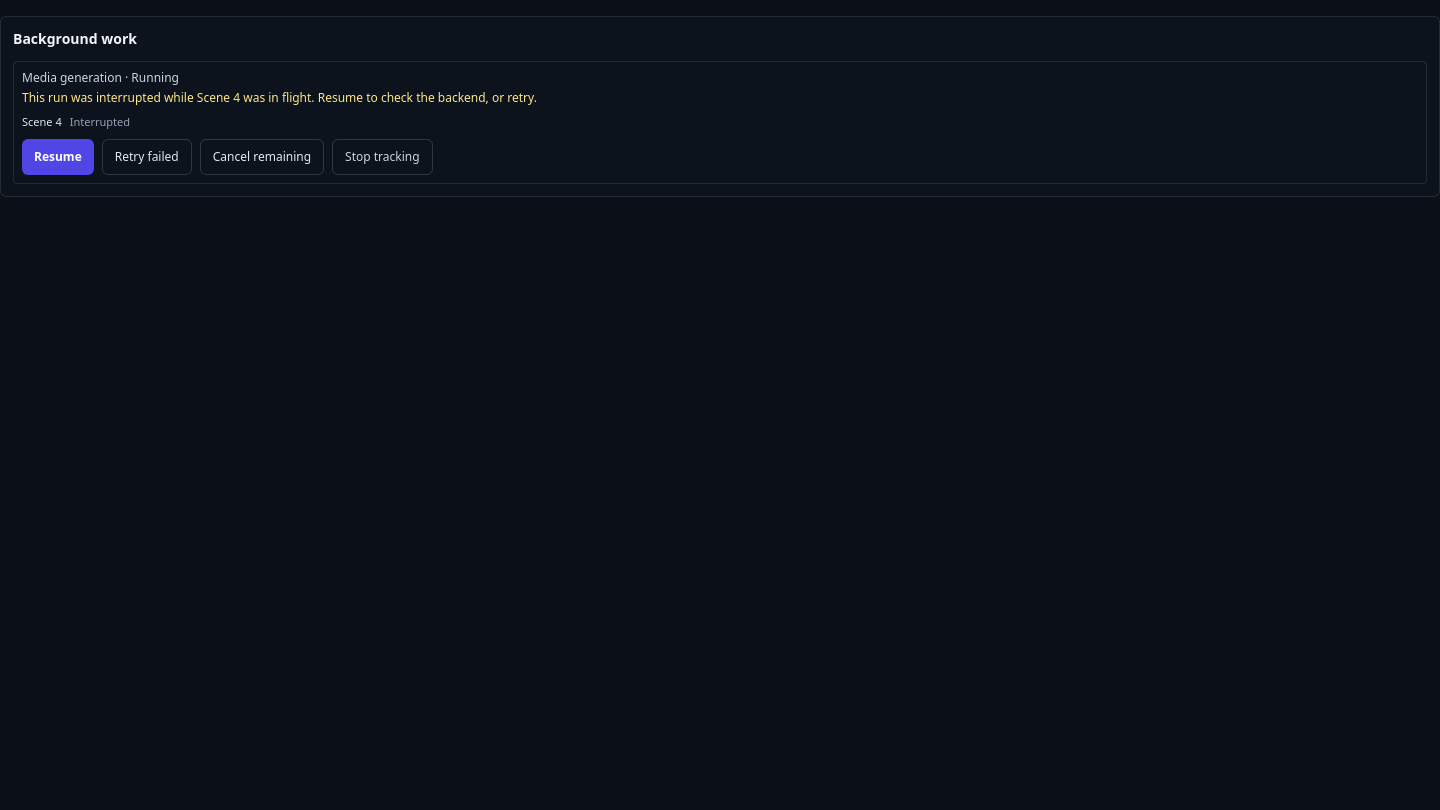
Test case: the recovery panel › warns that stopping tracking does not stop the render
Click the button "Stop tracking". click: (382, 156)
box: [332,138,432,174]
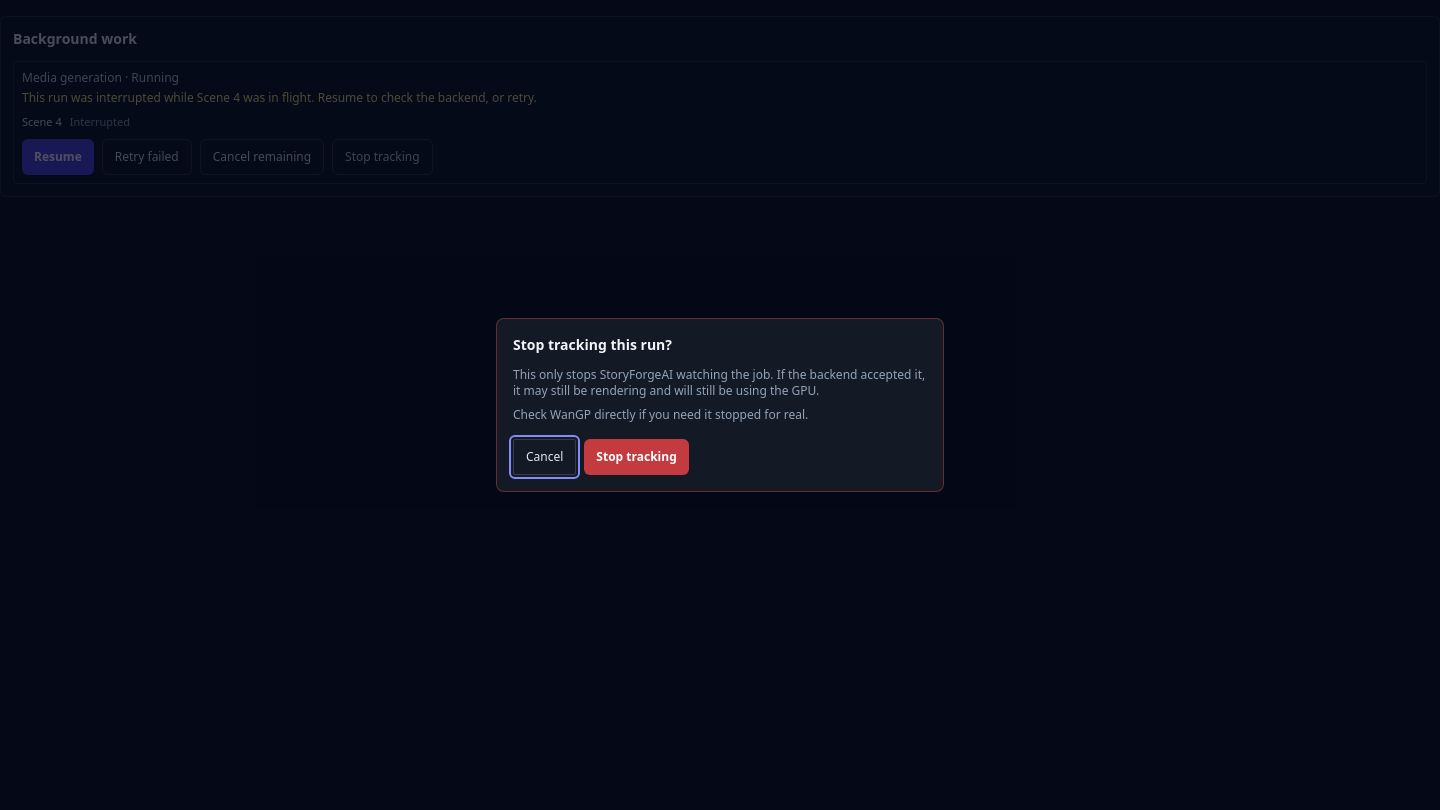
Now the dialog shows "may still be rendering", box [513,366,925,399]
Now the dialog shows "still be using the GPU", box [513,366,925,399]
